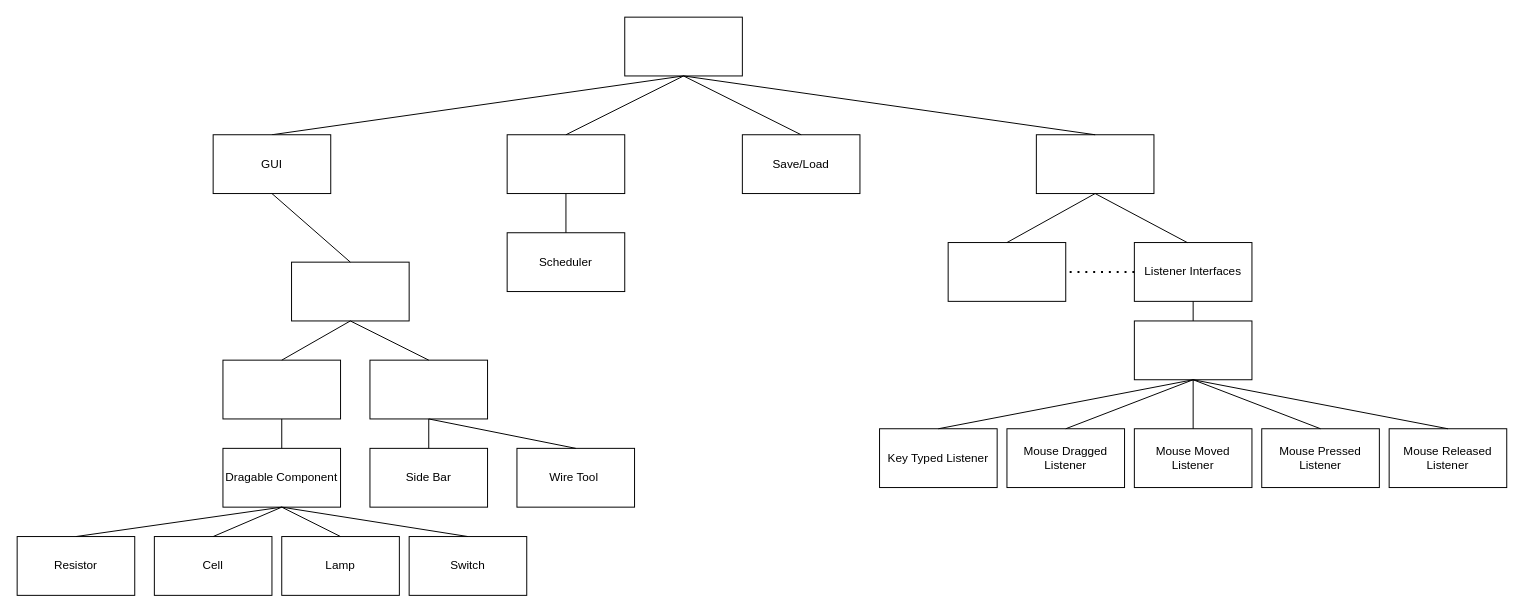
Some shapes in this 1524 by 613 pixel diagram are drawn without their labels. Here are the shapes that lost their labels. From the top down, the centre of each, then its label:
pixel 683 46: Circuit Planner
pixel 565 164: Utils
pixel 1094 164: Events
pixel 350 291: Editer
pixel 1006 271: Event Manager
pixel 1192 350: Event Listener Interface
pixel 281 389: Components
pixel 428 389: Static Components
